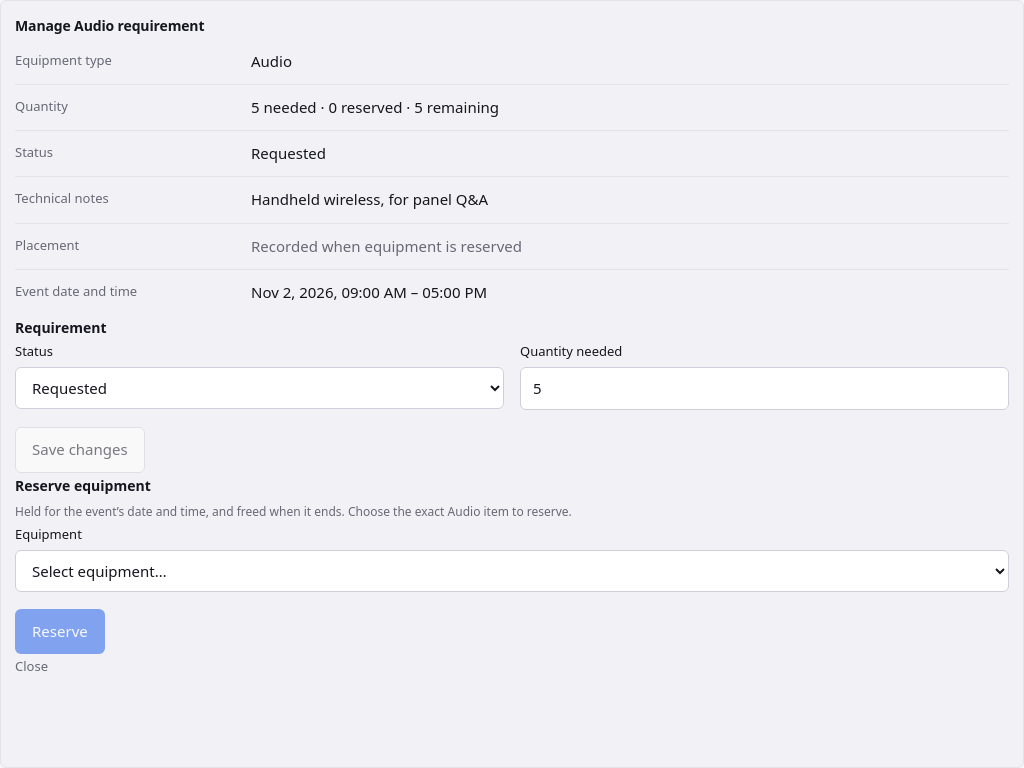
Test case: saving the status and quantity › does not mark it Unavailable without a reason, and says why
The image size is (1024, 768).
Select "Unavailable" in the dropdown labelled "Status": x=260, y=388 [15,367,504,409]
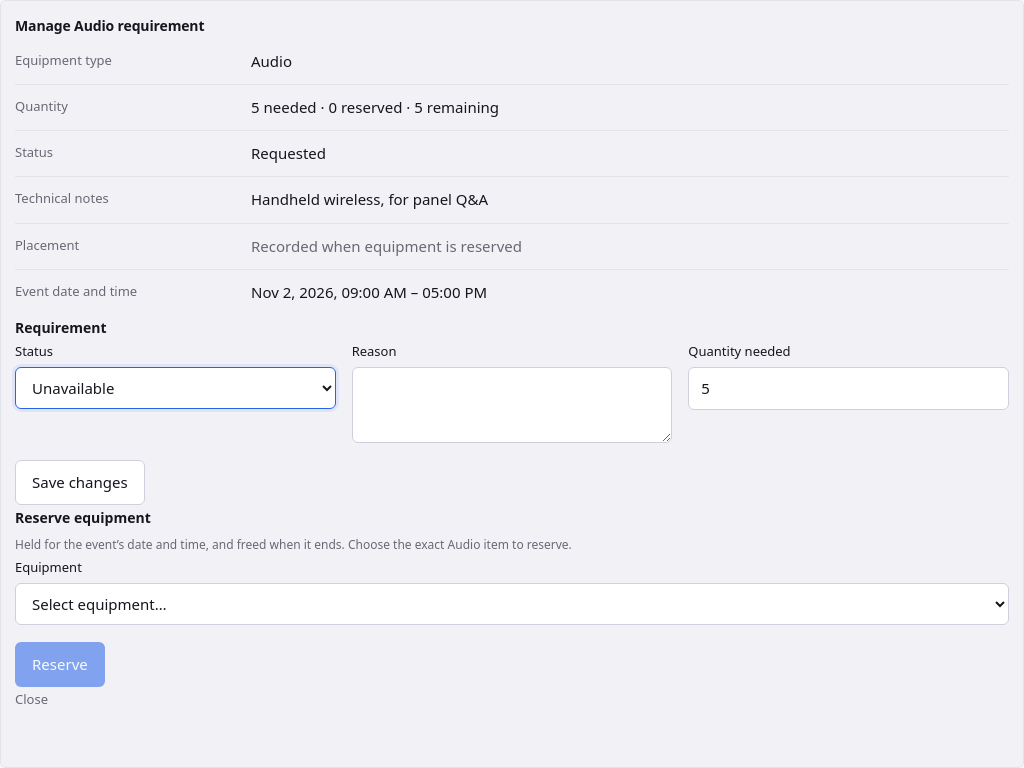
Click the button "Save changes": x=80, y=483 [15,460,145,505]
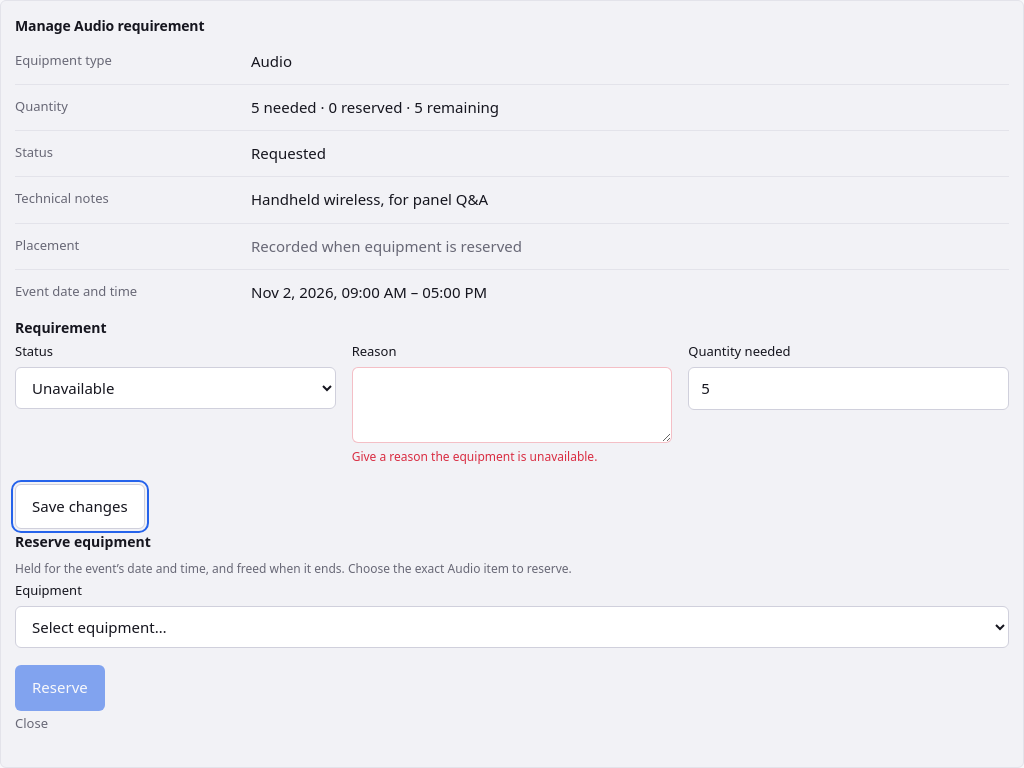
Check: the text "Give a reason the equipment is unavailable." is shown, box [352,448,597,465]
